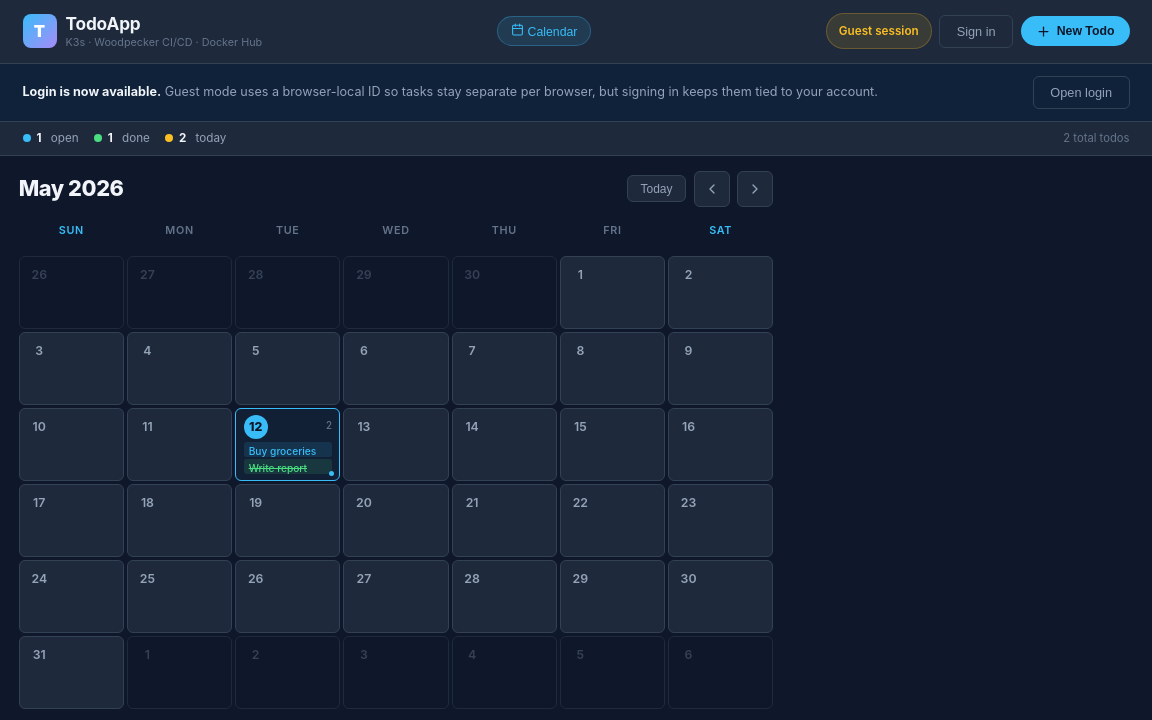
HomePage › Day panel › opens when clicking a day cell
This screenshot has width=1152, height=720.
Check: the text "2 total todos" is shown, box x1=1063 y1=130 x2=1130 y2=147
Click the element with class "today" at (288, 444), box x1=235 y1=408 x2=340 y2=481
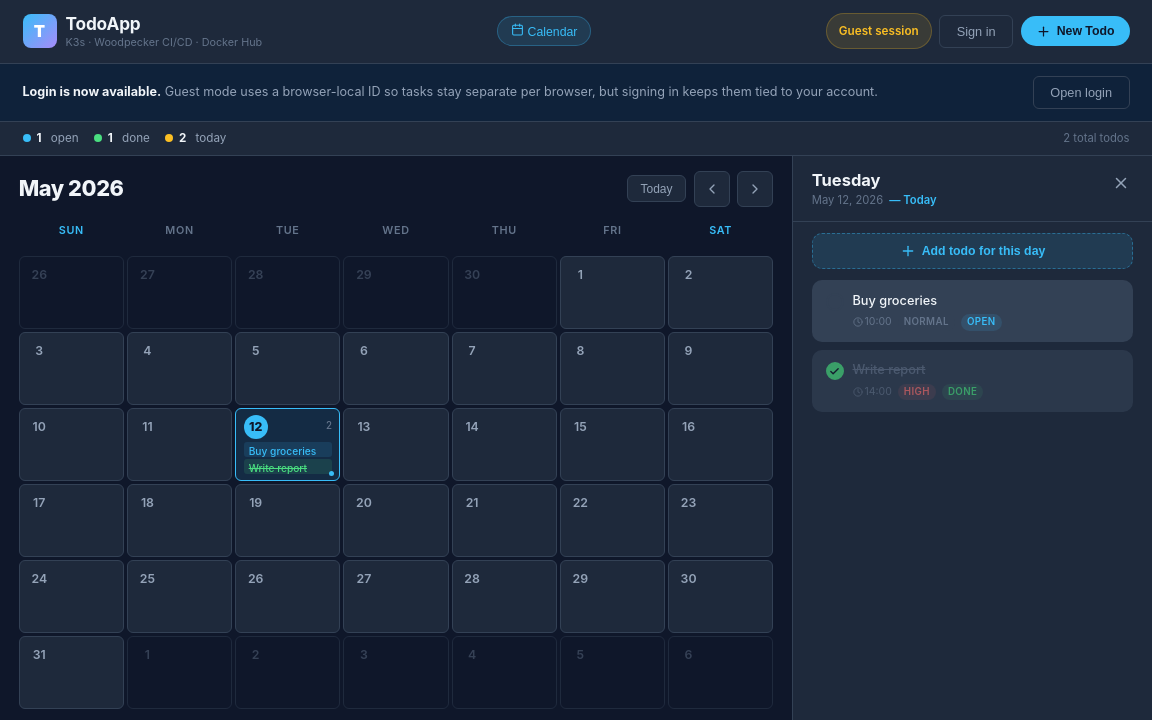
Check: the button "Add todo for this day" is shown, box x1=812 y1=233 x2=1133 y2=269
